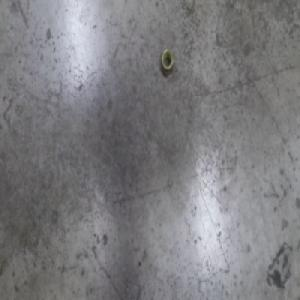Nut: (160, 47, 175, 78)
